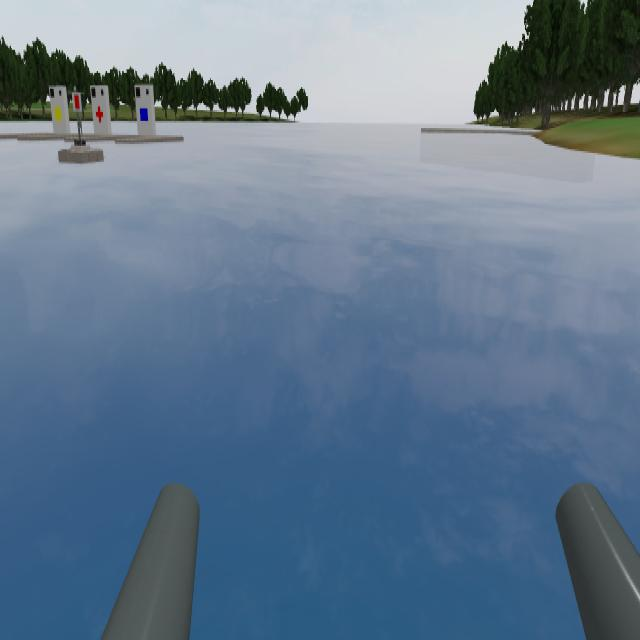red_pole: (69, 86, 88, 120)
